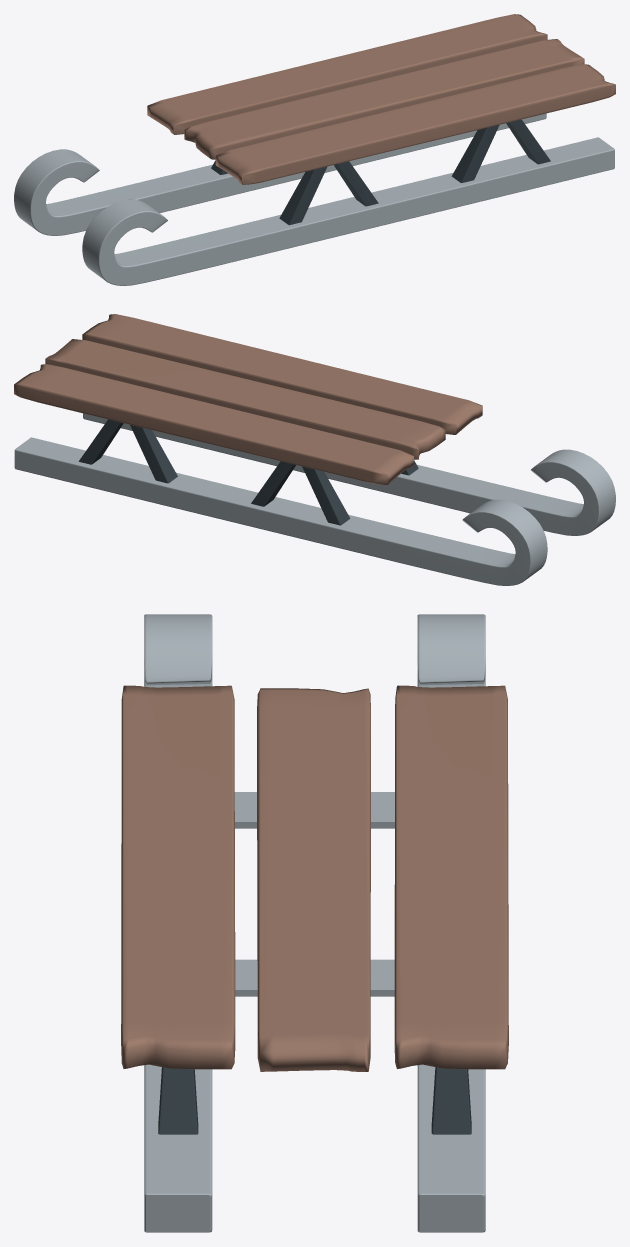
File: SledLarger.fbx
The picture shows the model from 3 angles, top to bottom: view 1: azimuth 30°, elevation 25°; view 2: azimuth 150°, elevation 25°; view 3: azimuth 270°, elevation 25°; orthographic projection. The views are drawn at different scales.
Parts seen in each view (by area): view 1: polySurface12; view 2: polySurface12; view 3: polySurface12.
Part boxes in pixels (bbox=[...]): polySurface12: bbox=[14, 14, 615, 285]; polySurface12: bbox=[14, 314, 615, 585]; polySurface12: bbox=[121, 614, 508, 1232].
Bounding box in the file's own units: 5.94 × 1.01 × 1.93.
